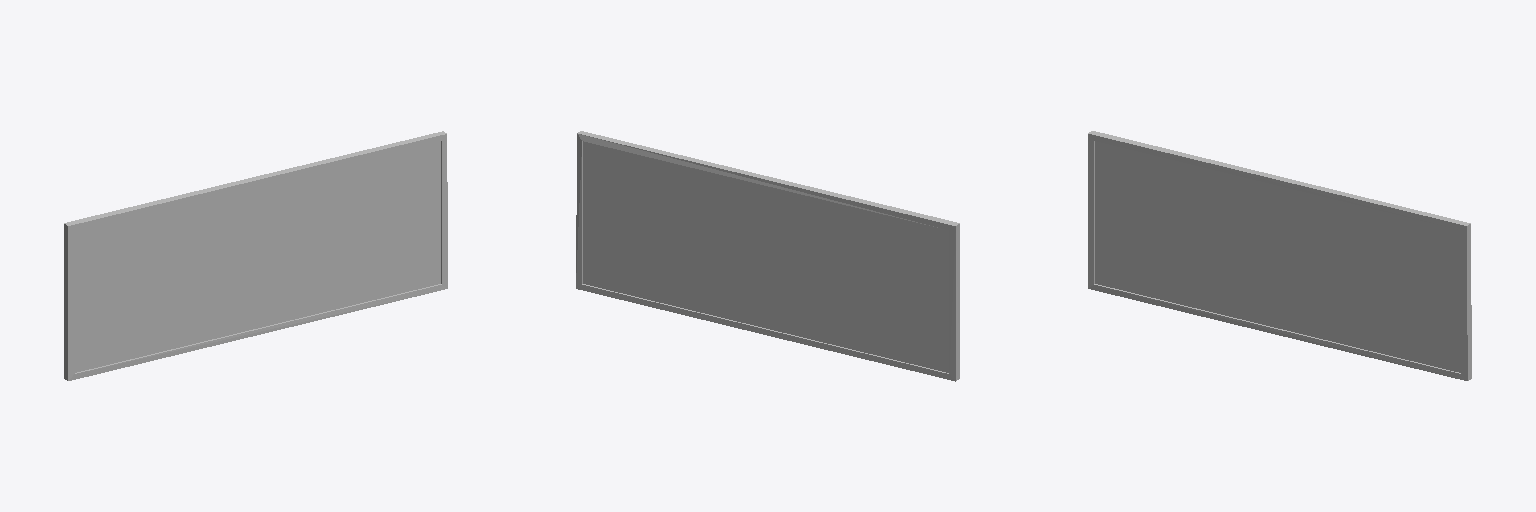
Rendered from cardboard.obj.
3 renders of one model, left to right at view 1: azimuth 30°, elevation 25°; view 2: azimuth 150°, elevation 25°; view 3: azimuth 330°, elevation 25°, orthographic.
Visible parts, largest first — view 1: plate_Cube, upper_frame_Cube.001, lower_frame_Cube.002, right_frame_Cube.003, left_frame_Cube.004; view 2: plate_Cube, upper_frame_Cube.001, lower_frame_Cube.002, right_frame_Cube.003, left_frame_Cube.004; view 3: plate_Cube, upper_frame_Cube.001, lower_frame_Cube.002, left_frame_Cube.004, right_frame_Cube.003.
Part boxes in pixels (left/top/right/bottom): plate_Cube: left=74, top=141, right=440, bottom=372; upper_frame_Cube.001: left=64, top=131, right=446, bottom=230; lower_frame_Cube.002: left=69, top=284, right=446, bottom=380; right_frame_Cube.003: left=64, top=224, right=74, bottom=380; left_frame_Cube.004: left=441, top=135, right=447, bottom=288; plate_Cube: left=583, top=141, right=948, bottom=372; upper_frame_Cube.001: left=577, top=131, right=959, bottom=230; lower_frame_Cube.002: left=576, top=284, right=955, bottom=381; right_frame_Cube.003: left=949, top=224, right=959, bottom=380; left_frame_Cube.004: left=576, top=134, right=582, bottom=287; plate_Cube: left=1095, top=141, right=1460, bottom=372; upper_frame_Cube.001: left=1088, top=131, right=1470, bottom=230; lower_frame_Cube.002: left=1088, top=284, right=1466, bottom=380; left_frame_Cube.004: left=1461, top=224, right=1471, bottom=380; right_frame_Cube.003: left=1088, top=134, right=1094, bottom=287.
Size of the model in its own units: 22.07 by 8.62 by 0.4443.